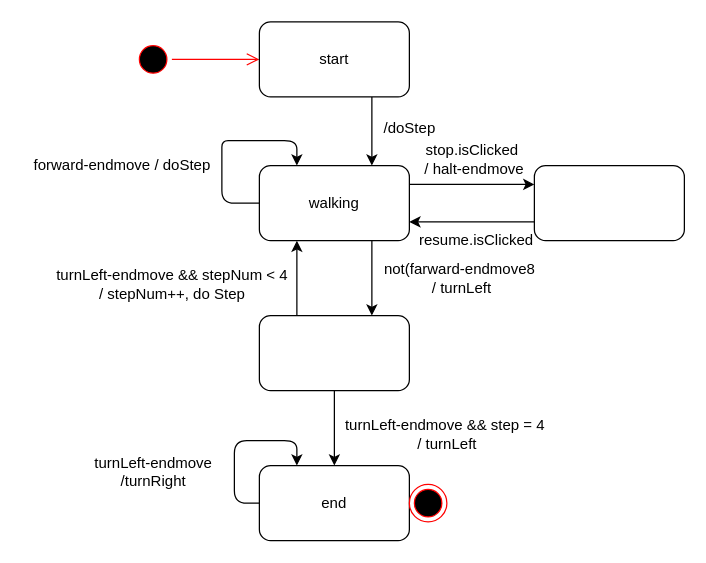
The diagram is 706 pixels wide and 563 high, and some of its shapes have lost their labels. Here are the shapes that lost their labels. From the top down, the box of each, then its label:
(533, 164, 684, 241): pause
(258, 314, 409, 391): obstacle
